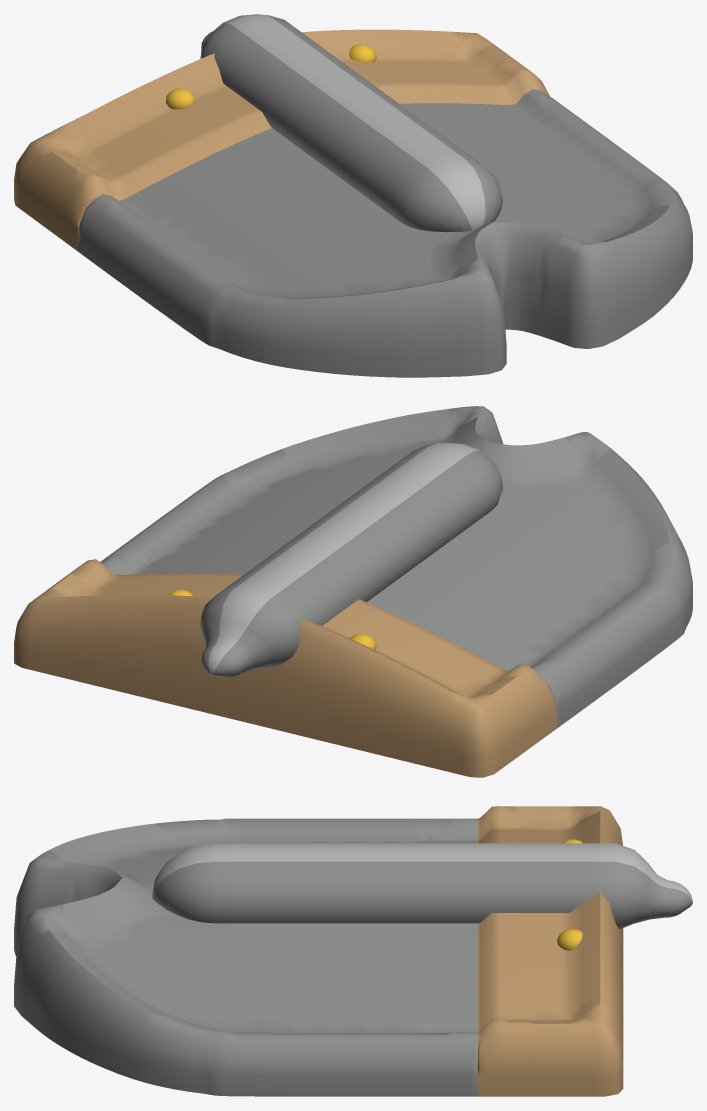
File: store_shield_153.glb
3 views of the same model, one above another, from view 1: azimuth 30°, elevation 25°; view 2: azimuth 150°, elevation 25°; view 3: azimuth 270°, elevation 25° (orthographic).
Parts seen in each view (by area): view 1: shield_steel, shield_bronze, spine, shield_gold; view 2: shield_steel, shield_bronze, spine; view 3: shield_steel, spine, shield_bronze, shield_gold.
Part boxes in pixels (x1,y1,x2,y2): shield_steel: (77, 89, 692, 377); shield_bronze: (14, 29, 549, 250); spine: (200, 14, 502, 232); shield_gold: (166, 44, 376, 109); shield_steel: (100, 406, 692, 728); shield_bronze: (14, 559, 556, 777); spine: (200, 442, 502, 678); shield_steel: (14, 818, 477, 1096); spine: (152, 843, 692, 929); shield_bronze: (478, 806, 623, 1096); shield_gold: (557, 839, 582, 950).
Bounding box in the file's own units: 17.23 × 4.35 × 20.82.
